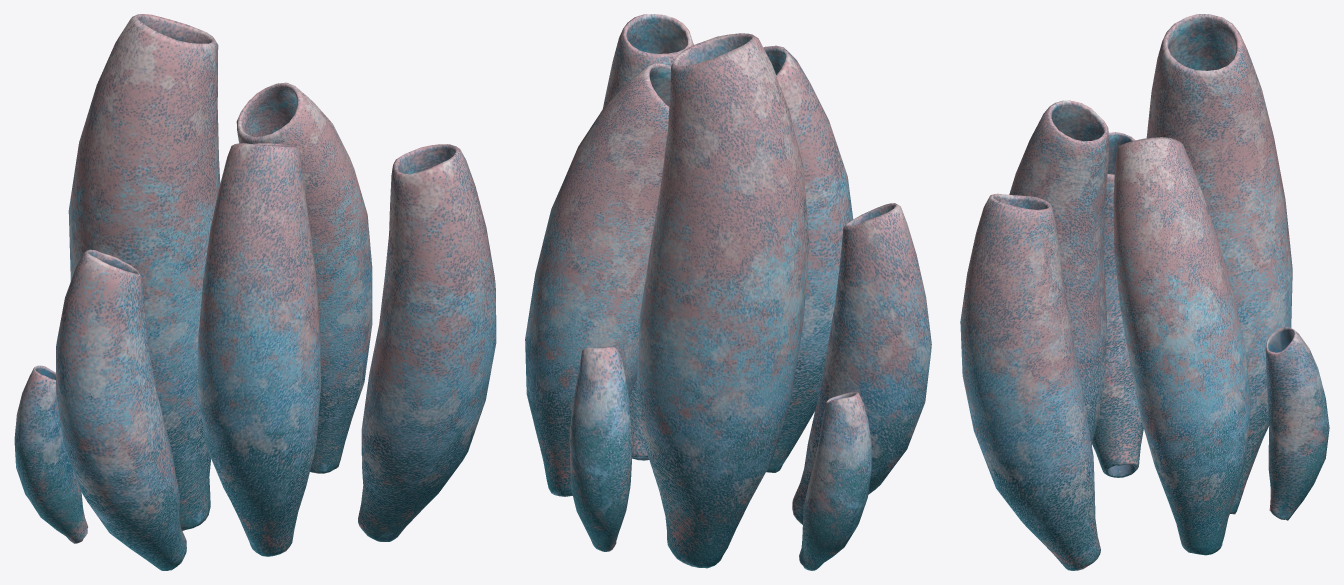
File: sea-sponge-size-3.glb
The picture shows the model from 3 angles, left to right: view 1: azimuth 30°, elevation 25°; view 2: azimuth 150°, elevation 25°; view 3: azimuth 270°, elevation 25°; orthographic projection. The views are drawn at different scales.
Parts seen in each view (by area): view 1: default; view 2: default; view 3: default.
Part boxes in pixels (<box>): default: <box>14,14,496,570</box>; default: <box>525,14,931,570</box>; default: <box>960,14,1329,570</box>.
Size of the model in its own units: 13.72 by 18.1 by 12.51.
Materials: 1 (1 with a texture image).
